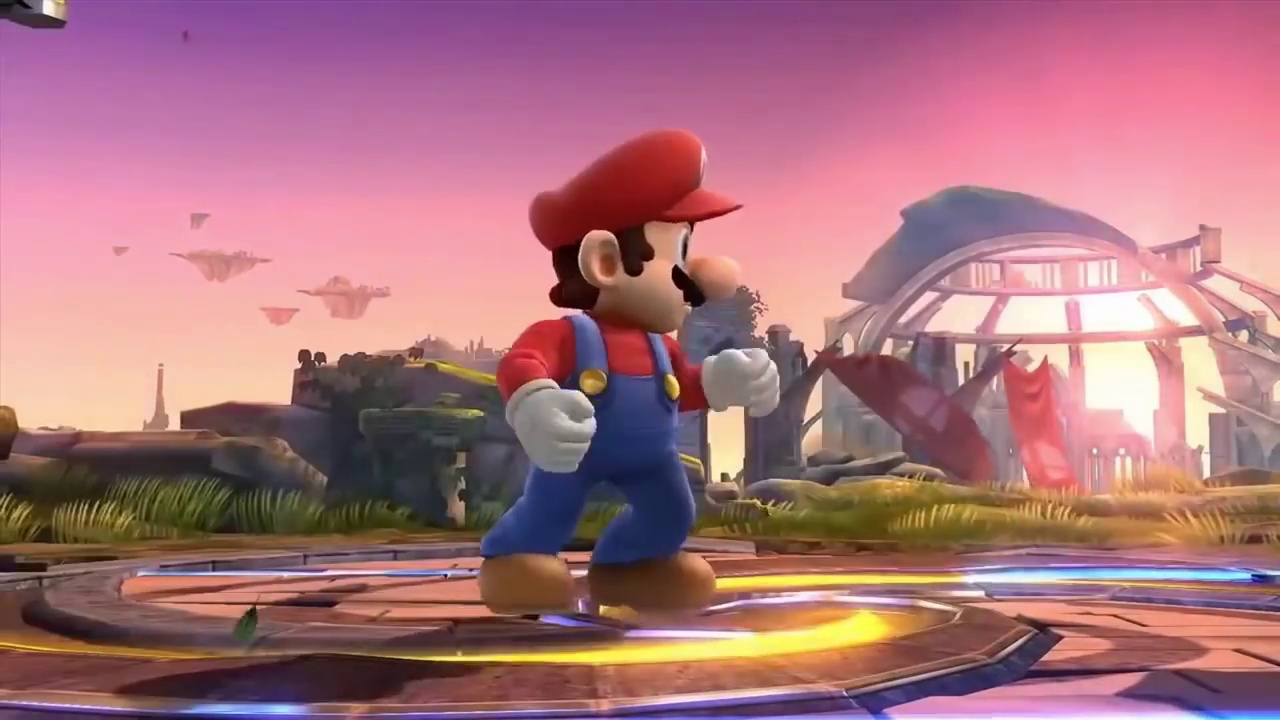Mario: (481, 131, 780, 612)
